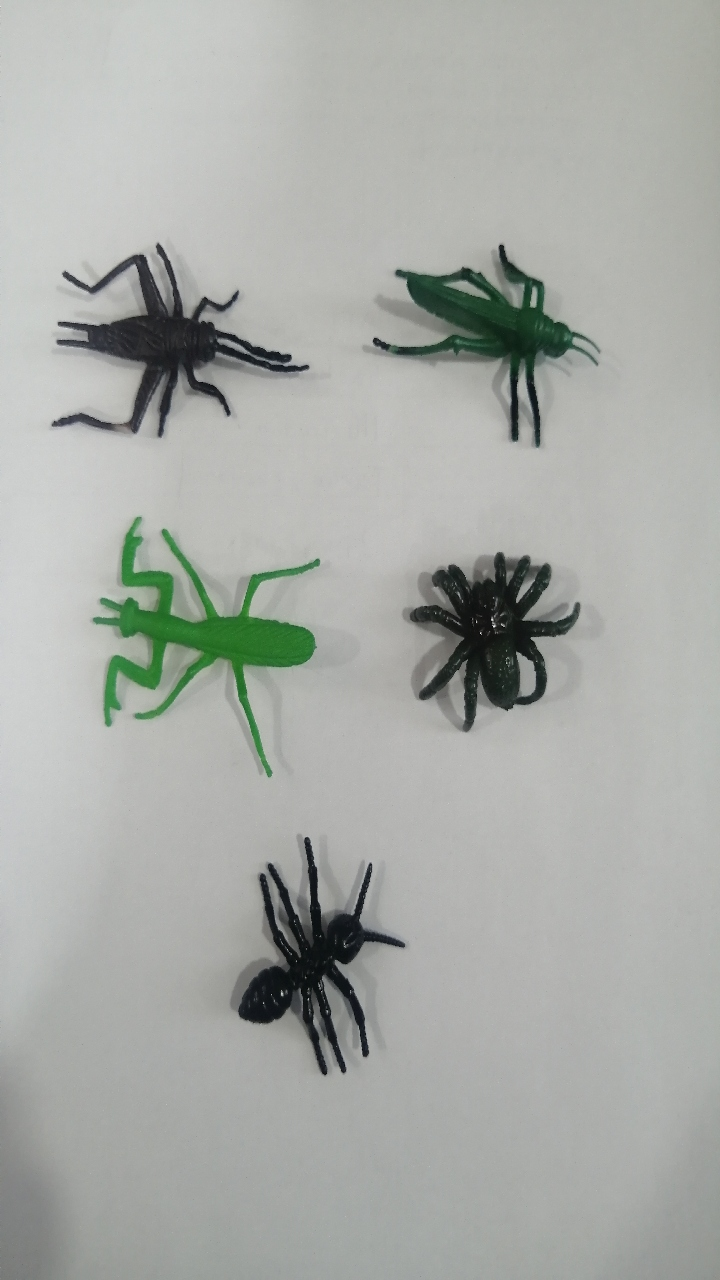intruso: (41, 488, 355, 782), (14, 228, 338, 469), (204, 800, 426, 1111), (355, 208, 621, 465), (374, 508, 608, 755)
